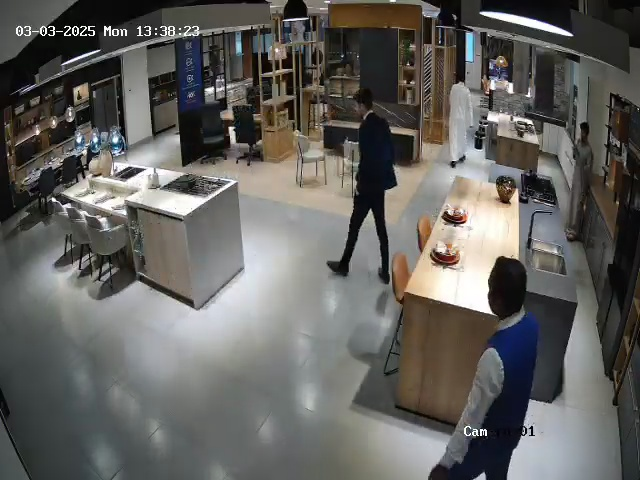employee: (428, 256, 540, 480), (326, 87, 398, 283)
male: (567, 117, 595, 239), (448, 72, 474, 168)
